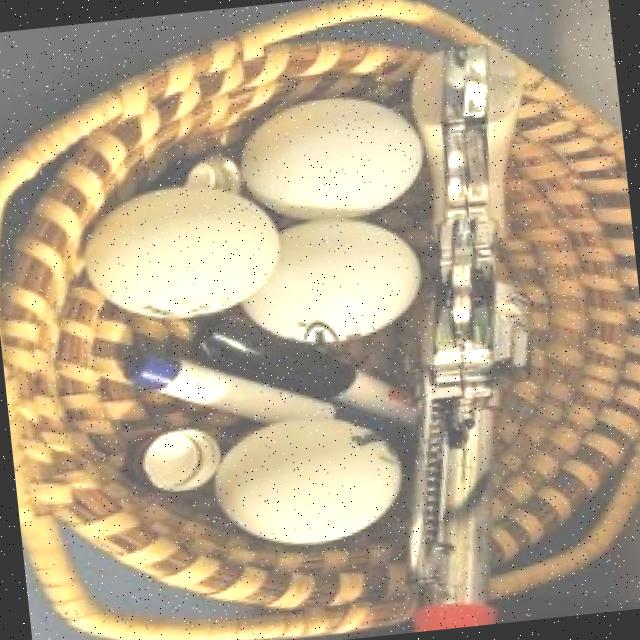ping-pong-ball: (76, 174, 290, 326), (212, 406, 406, 548), (232, 210, 428, 350), (234, 89, 432, 222)
